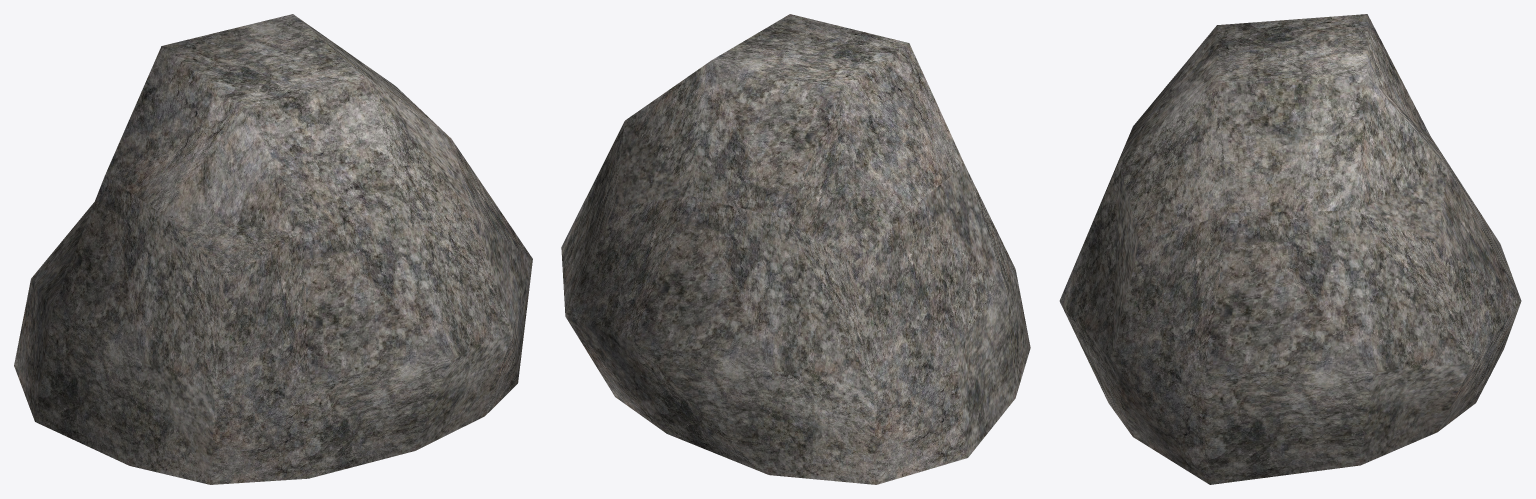
Rendered from rock1.glb.
The picture shows the model from 3 angles, left to right: view 1: azimuth 30°, elevation 25°; view 2: azimuth 150°, elevation 25°; view 3: azimuth 270°, elevation 25°; orthographic projection. The views are drawn at different scales.
Visible parts, largest first — view 1: rock1; view 2: rock1; view 3: rock1.
Part boxes in pixels (left/top/right/bottom): rock1: left=14, top=14, right=532, bottom=484; rock1: left=561, top=14, right=1030, bottom=484; rock1: left=1059, top=14, right=1521, bottom=484.
Size of the model in its own units: 0.7171 by 0.5677 by 0.7014.
Materials: 1 (1 with a texture image).
